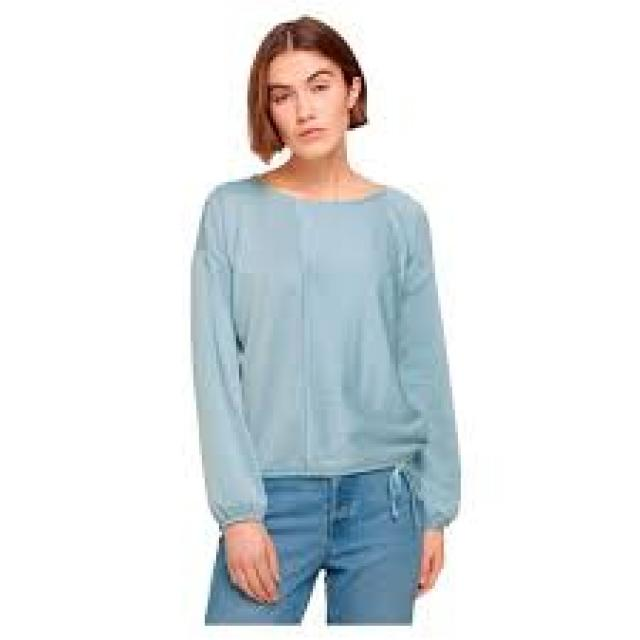plain: (187, 170, 465, 532)
